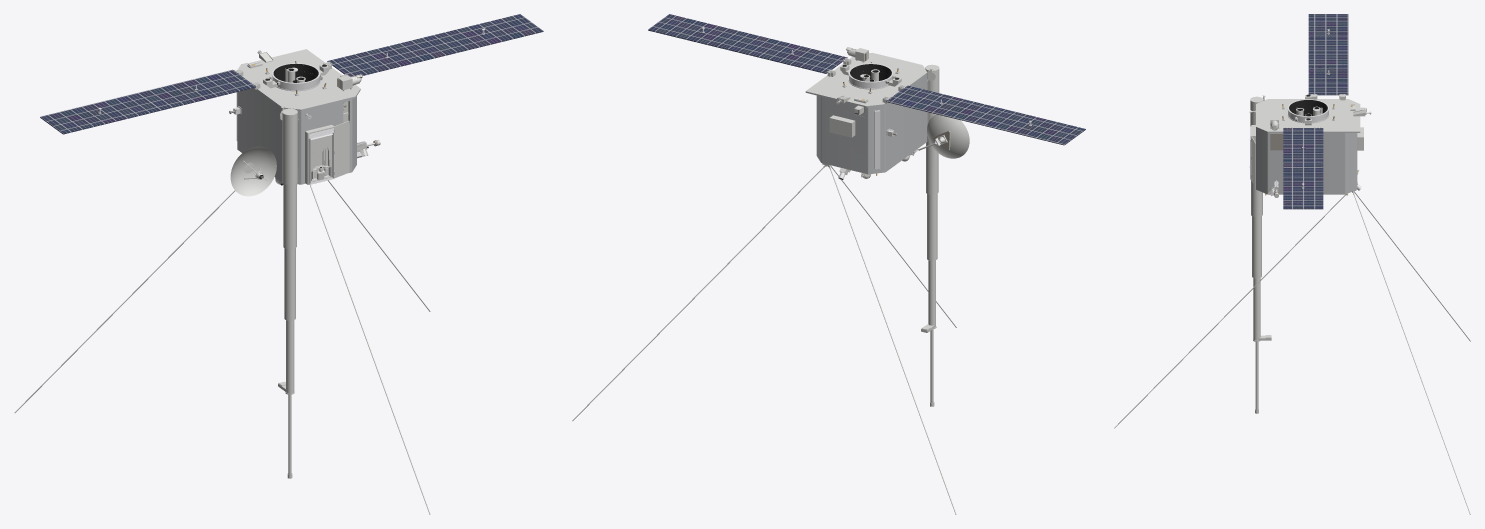
The model's file is stereo.glb.
3 renders of one model, left to right at view 1: azimuth 30°, elevation 25°; view 2: azimuth 150°, elevation 25°; view 3: azimuth 270°, elevation 25°, orthographic. The views are drawn at different scales.
Visible parts, largest first — view 1: Layer_0; view 2: Layer_0; view 3: Layer_0.
Boxes of the visible parts, <box> form: Layer_0: <box>14,14,543,514</box>; Layer_0: <box>572,14,1085,514</box>; Layer_0: <box>1114,14,1470,514</box>.
Size of the model in its own units: 6.47 by 4.99 by 5.01.
Materials: 8 (1 with a texture image).
